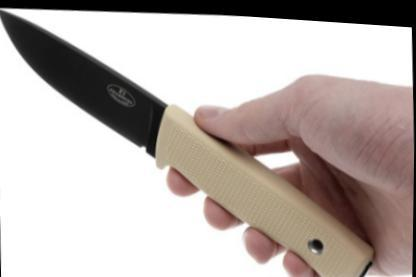knife: (0, 0, 282, 229)
